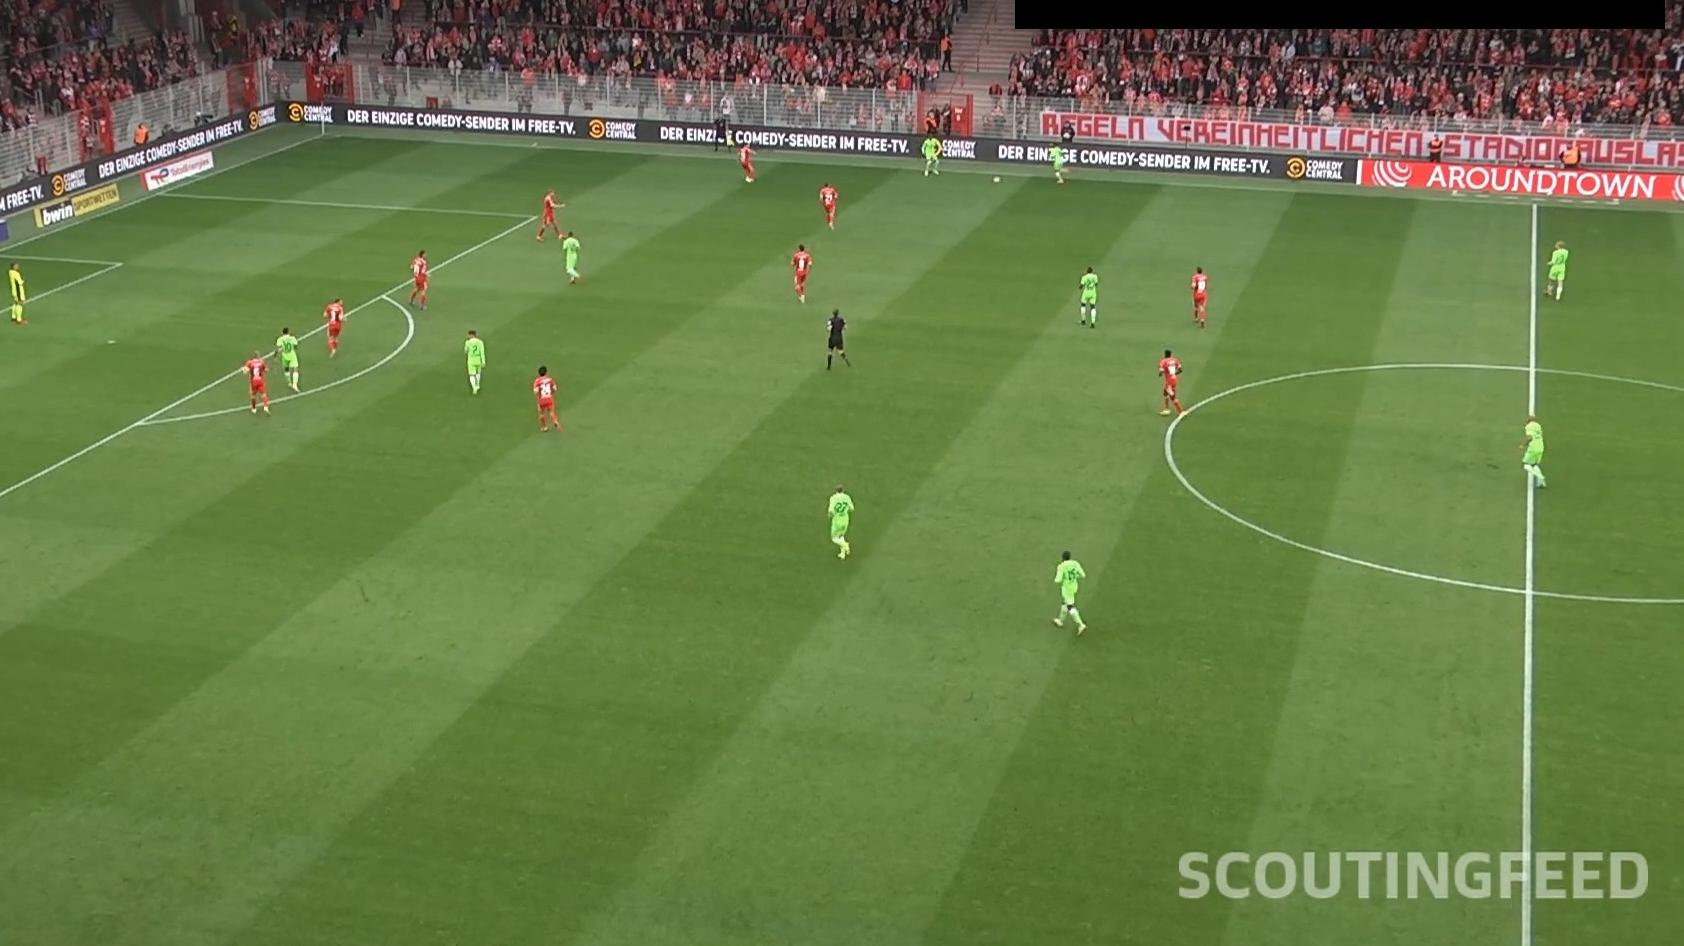ball: (991, 175, 1002, 185)
